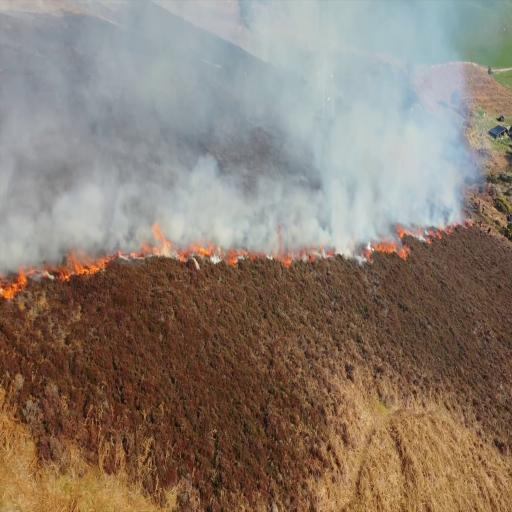fire: (0, 247, 110, 300), (129, 221, 175, 259), (176, 240, 239, 263), (374, 236, 395, 256)
smoke: (2, 3, 482, 216), (323, 67, 476, 258)
